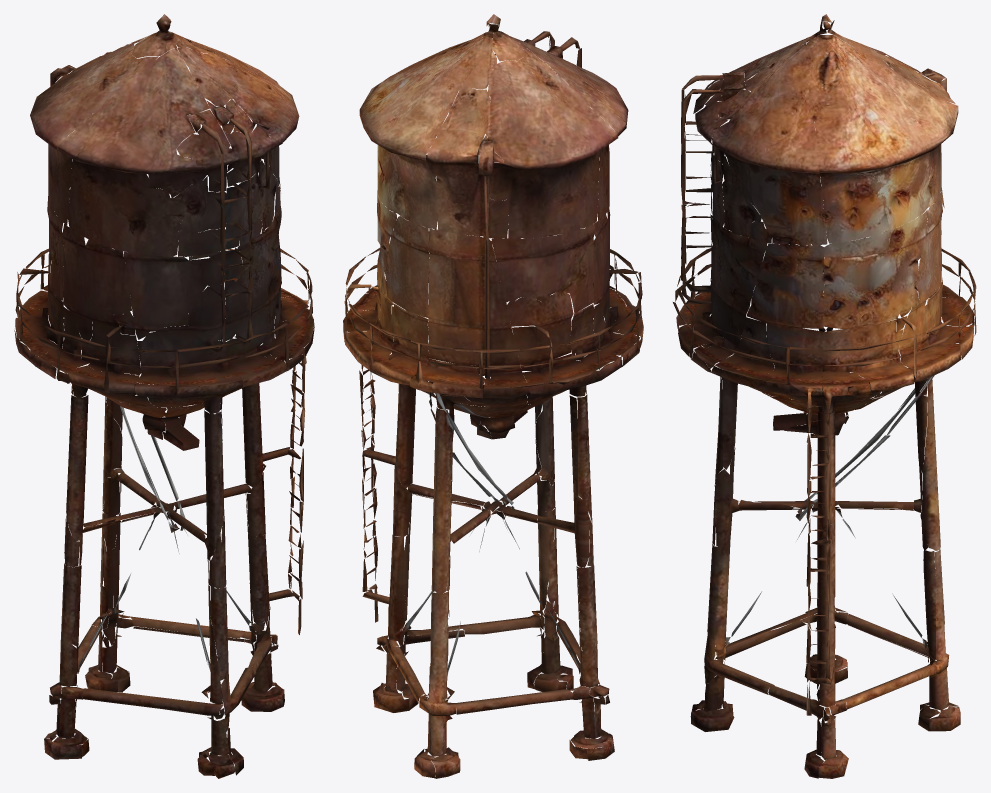
File: water_tower.glb
3 renders of one model, left to right at view 1: azimuth 30°, elevation 25°; view 2: azimuth 150°, elevation 25°; view 3: azimuth 270°, elevation 25°, orthographic.
Parts seen in each view (by area): view 1: tripo_node_48d480a2-7672-468f-b9c3-975359b79032; view 2: tripo_node_48d480a2-7672-468f-b9c3-975359b79032; view 3: tripo_node_48d480a2-7672-468f-b9c3-975359b79032.
Boxes of the visible parts, <box> form: tripo_node_48d480a2-7672-468f-b9c3-975359b79032: <box>14,14,314,778</box>; tripo_node_48d480a2-7672-468f-b9c3-975359b79032: <box>343,14,643,778</box>; tripo_node_48d480a2-7672-468f-b9c3-975359b79032: <box>673,14,976,778</box>.
Bounding box in the file's own units: 0.3884 × 1 × 0.3889.
Materials: 1 (1 with a texture image).
